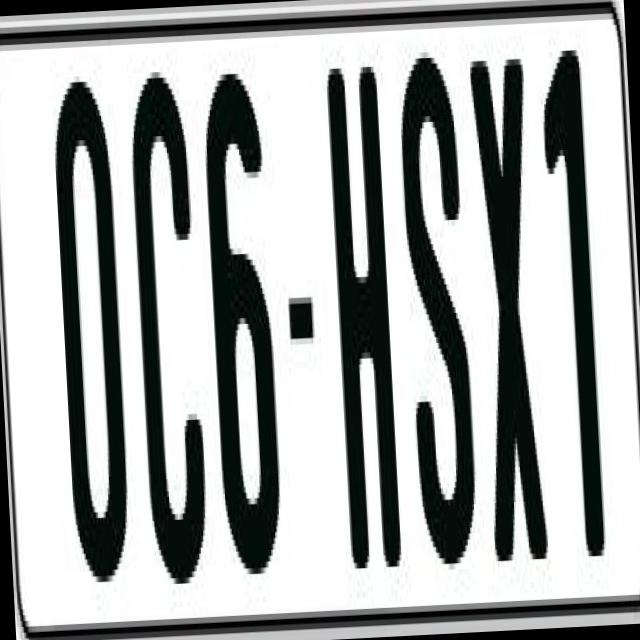0: (46, 63, 127, 589)
1: (538, 51, 605, 564)
6: (200, 56, 286, 570)
C: (125, 70, 216, 609)
H: (324, 54, 404, 586)
S: (394, 57, 475, 565)
X: (466, 41, 550, 579)
